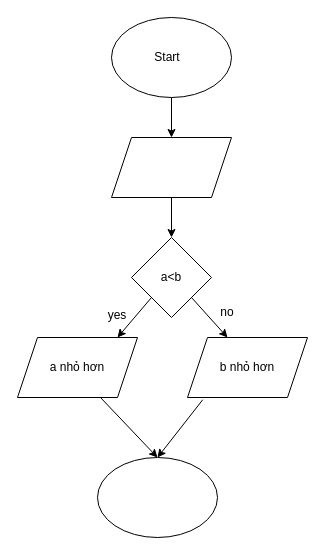
This 325x555 diagram has some shape labels left out. Here are the shapes that lost their labels. From the top down, the box of each, then its label:
(110, 136, 232, 198): a,b
(96, 456, 218, 538): end
